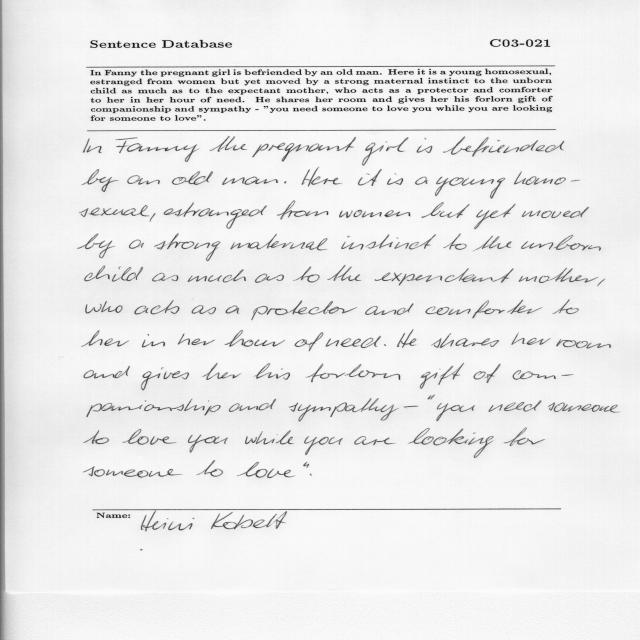word: (164, 202, 267, 229), (289, 398, 399, 422), (252, 137, 356, 162), (408, 428, 494, 458), (375, 268, 514, 286), (443, 137, 564, 157), (87, 399, 221, 417), (426, 300, 543, 319), (252, 301, 357, 321), (116, 138, 200, 162), (154, 234, 221, 262), (306, 364, 400, 383), (230, 234, 328, 250), (435, 177, 505, 199), (341, 234, 436, 250), (362, 137, 409, 166), (521, 235, 601, 251), (519, 268, 599, 283), (237, 462, 309, 478), (420, 363, 464, 389), (141, 368, 189, 391), (84, 467, 183, 478), (474, 204, 516, 229), (225, 330, 285, 347), (431, 333, 499, 348), (85, 265, 143, 282), (277, 201, 328, 220), (78, 234, 115, 259), (514, 171, 580, 185), (123, 429, 176, 445), (80, 205, 150, 217), (82, 169, 118, 192), (302, 167, 342, 187), (82, 330, 129, 347), (548, 402, 620, 413), (421, 202, 470, 218), (187, 270, 246, 283), (304, 436, 343, 455), (504, 428, 545, 446), (522, 207, 589, 218), (245, 430, 294, 445), (188, 435, 228, 453), (436, 403, 475, 421), (203, 363, 242, 380), (326, 336, 381, 348), (489, 400, 542, 412), (135, 300, 180, 314), (253, 363, 290, 380), (229, 399, 276, 412), (513, 370, 574, 380), (210, 136, 247, 152), (365, 303, 414, 315), (473, 236, 512, 251), (339, 210, 411, 218), (172, 171, 213, 185), (84, 366, 130, 378), (295, 332, 324, 351), (556, 339, 611, 349), (328, 265, 362, 281), (474, 364, 501, 383), (86, 301, 123, 314), (222, 177, 278, 185), (197, 460, 223, 477), (293, 267, 320, 283), (512, 334, 551, 345), (358, 169, 382, 186), (443, 233, 467, 250), (178, 334, 215, 345), (552, 299, 579, 314), (354, 436, 396, 445), (84, 430, 109, 444), (397, 330, 416, 348), (127, 175, 160, 185), (142, 334, 165, 347), (83, 138, 102, 153), (255, 274, 284, 283), (417, 138, 432, 153), (192, 305, 216, 314), (152, 273, 178, 281), (387, 173, 403, 185), (129, 240, 144, 249), (226, 305, 240, 314), (415, 177, 427, 185), (597, 279, 605, 286), (150, 213, 155, 222), (428, 395, 435, 400), (404, 406, 418, 408), (285, 181, 287, 184), (384, 344, 386, 346), (310, 474, 312, 476)
